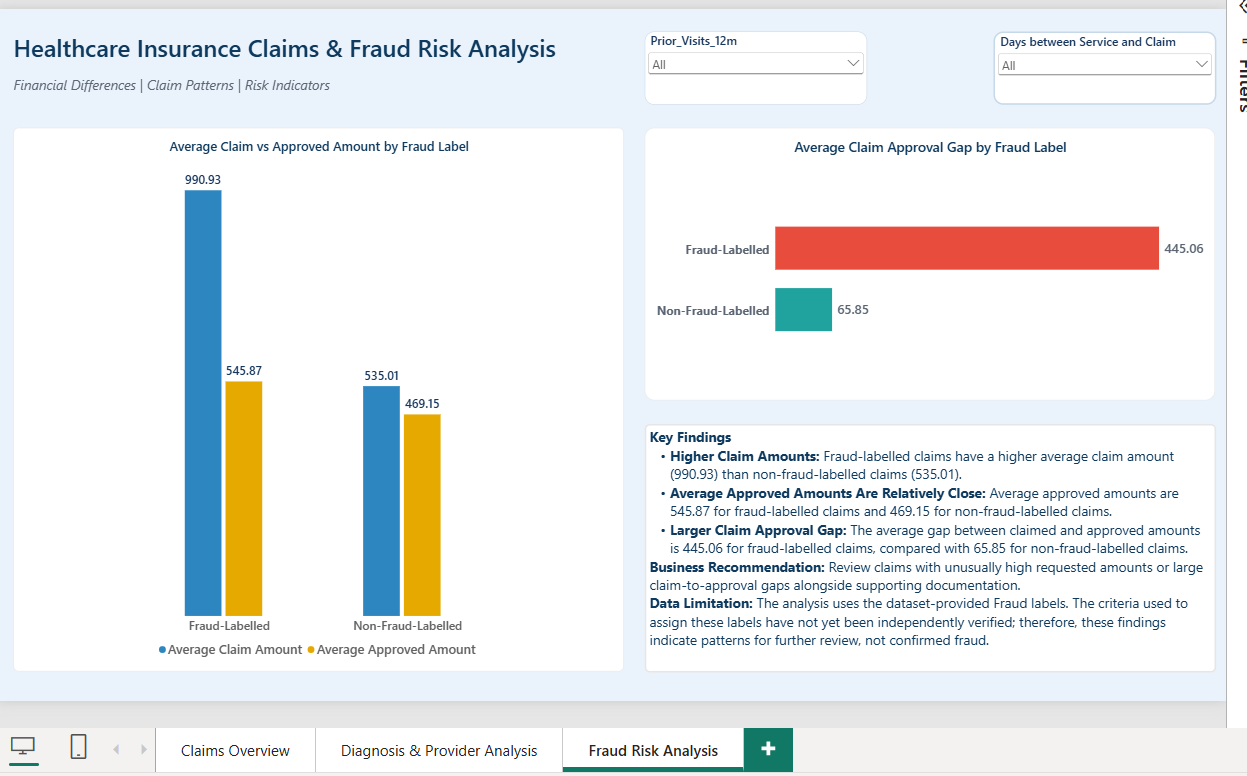

The dashboard page shown, as its layout file describes it:
{"tool":"powerbi","page":{"name":"Fraud Risk Analysis","canvas":[1920,1080],"ordinal":2},"visuals":[{"type":"textbox","box":[13.6,35,966,130.2],"z":0},{"type":"clusteredColumnChart","title":"Average Claim vs Approved Amount by Fraud Label","fields":{"Category":["healthcare_fraud_detection.Fraud Label Category"],"Y":["#Measures.Average Claim Amount","#Measures.Average Approved Amount"]},"box":[27.2,186.6,1098.2,849.4],"z":1},{"type":"clusteredBarChart","title":"Average Claim Approval Gap by Fraud Label","fields":{"Category":["healthcare_fraud_detection.Fraud Label Category"],"Y":["#Measures.Average Claim Approval Gap"]},"box":[1156.5,186.6,748.3,456.8],"z":3},{"type":"textbox","box":[1158.5,678.4,748.3,357.6],"z":4},{"type":"slicer","title":"Days between Service and Claim","fields":{"Values":["healthcare_fraud_detection.Claim Submission Delay Group"]},"box":[1556.9,35,347.9,114.7],"z":5},{"type":"slicer","fields":{"Values":["healthcare_fraud_detection.Prior_Visits_12m"]},"box":[1156.5,35,347,114.7],"z":6}]}

Visuals, with their boxes on the page's 1920x1080 design canvas (x1, y1, x2, y2). These are canvas units, not pixel positions in the 1247x776 screenshot, which may show the page scaled, cropped or inside an application window:
textbox: (x1=14, y1=35, x2=980, y2=165)
"Average Claim vs Approved Amount by Fraud Label" clusteredColumnChart: (x1=27, y1=187, x2=1125, y2=1036)
"Average Claim Approval Gap by Fraud Label" clusteredBarChart: (x1=1156, y1=187, x2=1905, y2=643)
textbox: (x1=1158, y1=678, x2=1907, y2=1036)
"Days between Service and Claim" slicer: (x1=1557, y1=35, x2=1905, y2=150)
slicer - healthcare_fraud_detection.Prior_Visits_12m: (x1=1156, y1=35, x2=1504, y2=150)
